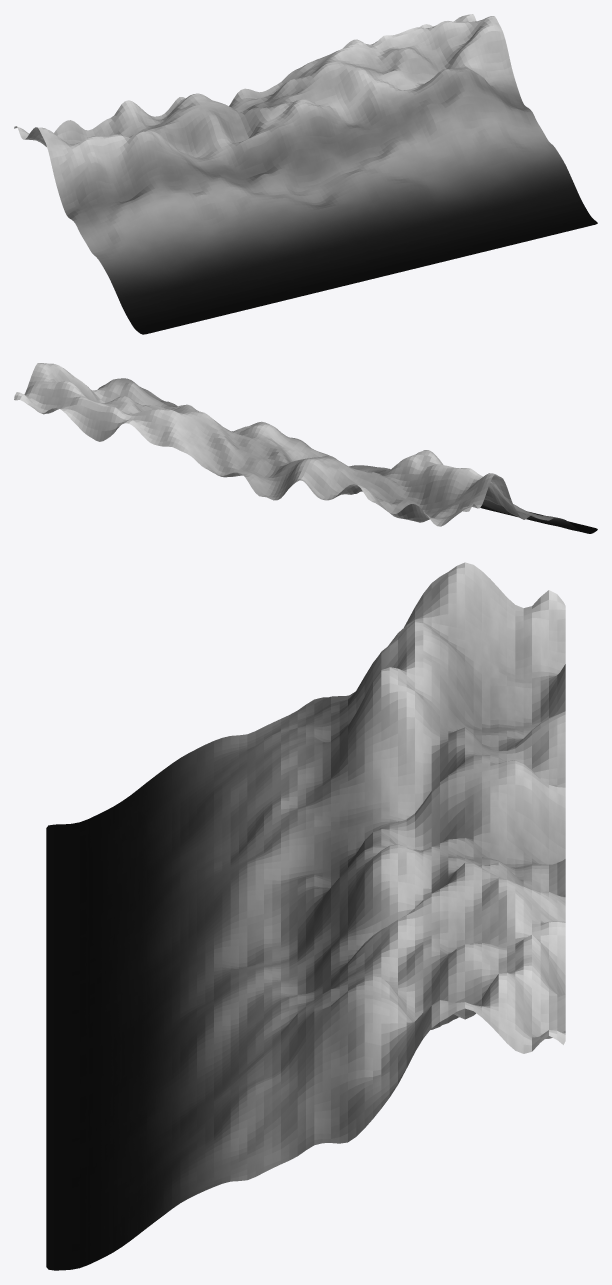
The model's file is fancy-landscape.obj.
3 views of the same model, one above another, from view 1: azimuth 30°, elevation 25°; view 2: azimuth 150°, elevation 25°; view 3: azimuth 270°, elevation 25° (orthographic). The views are drawn at different scales.
Visible parts, largest first — view 1: Grid_Grid.001; view 2: Grid_Grid.001; view 3: Grid_Grid.001.
Boxes of the visible parts, x1,y1,x2,y2 form: Grid_Grid.001: (14, 14, 597, 334); Grid_Grid.001: (14, 363, 597, 533); Grid_Grid.001: (46, 562, 565, 1270).
Bounding box in the file's own units: 800 × 220 × 394.
1 material, 1 textured.
